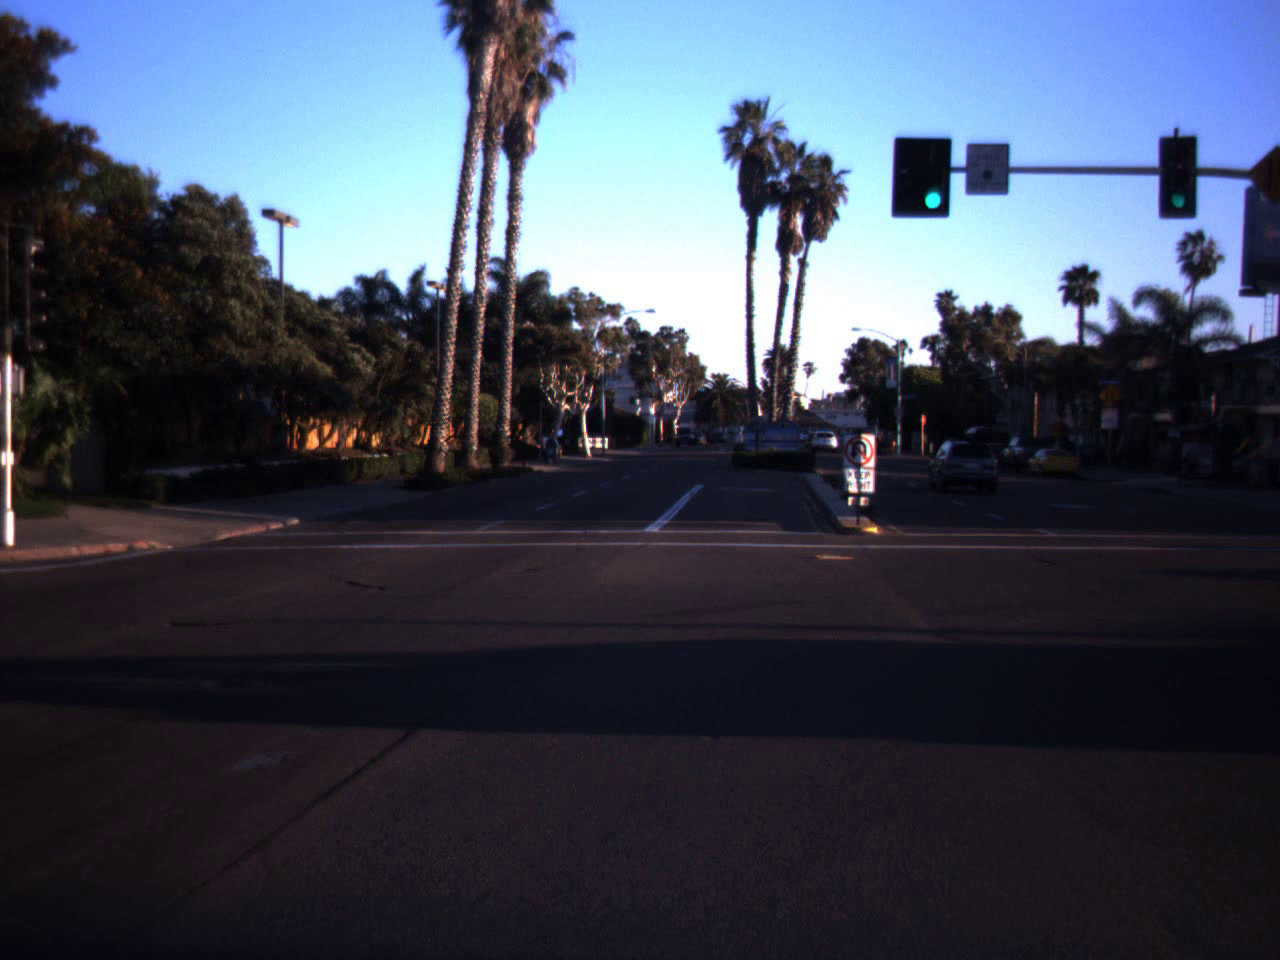go: (912, 140, 954, 215), (1159, 145, 1198, 215)
